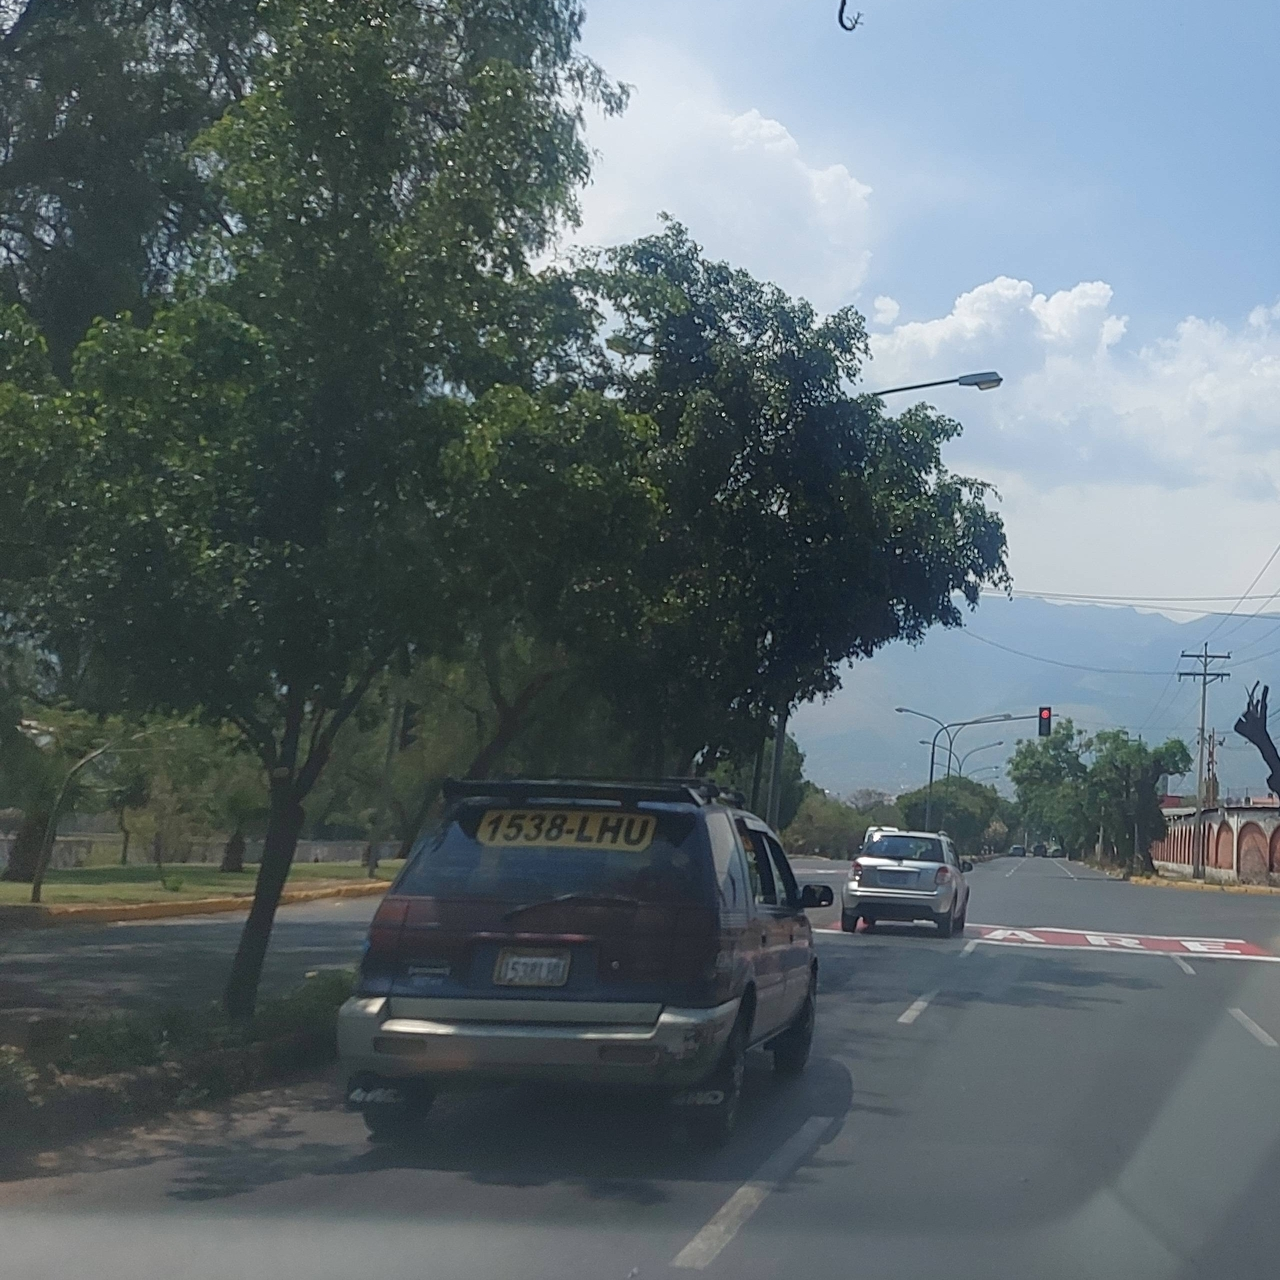pare-horizontal: (816, 925, 1279, 952)
